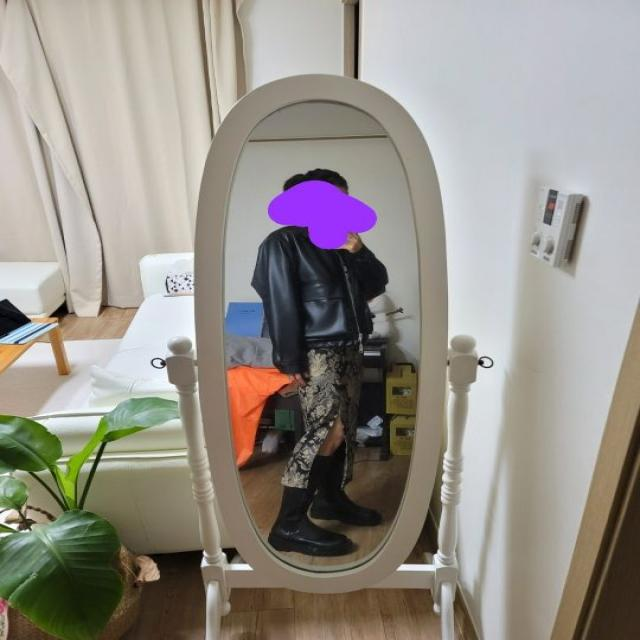jacket: (250, 229, 381, 375)
skirt: (278, 337, 361, 491)
